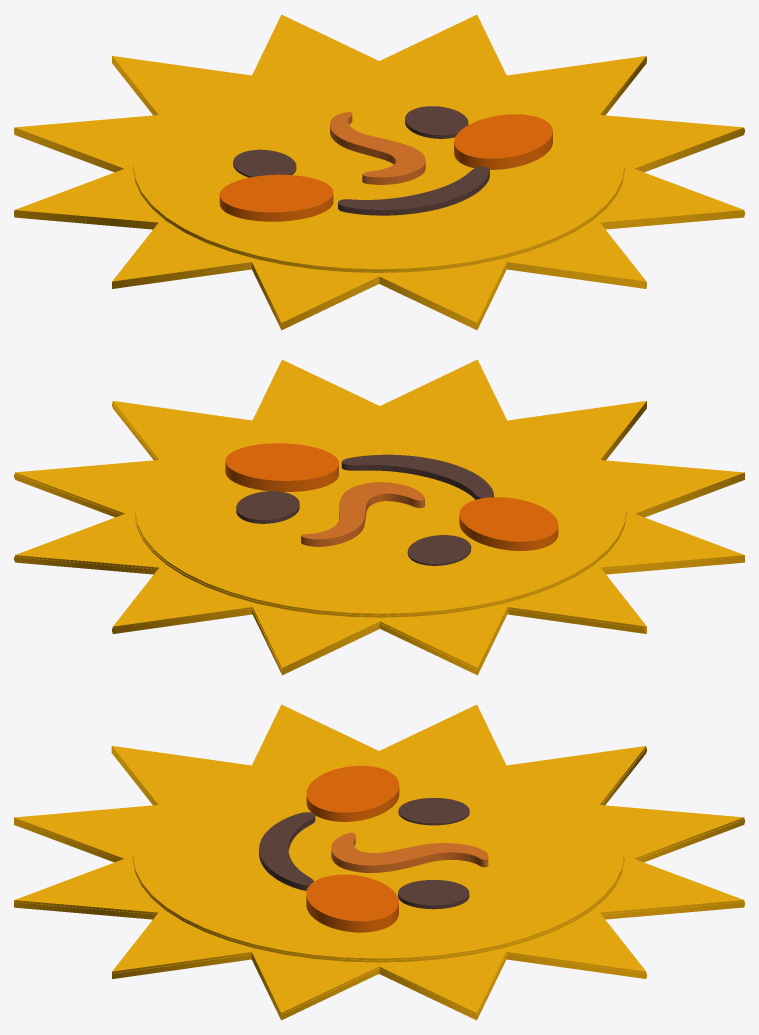
Rendered from emoji_u1f31e.glb.
The picture shows the model from 3 angles, top to bottom: view 1: azimuth 30°, elevation 25°; view 2: azimuth 150°, elevation 25°; view 3: azimuth 270°, elevation 25°; orthographic projection.
Visible parts, largest first — view 1: emoji_u1f31e; view 2: emoji_u1f31e; view 3: emoji_u1f31e.
Boxes of the visible parts, x1,y1,x2,y2 form: emoji_u1f31e: (14, 14, 744, 330); emoji_u1f31e: (14, 359, 744, 675); emoji_u1f31e: (14, 704, 744, 1020).
Bounding box in the file's own units: 0.0356 × 0.002 × 0.0356.
